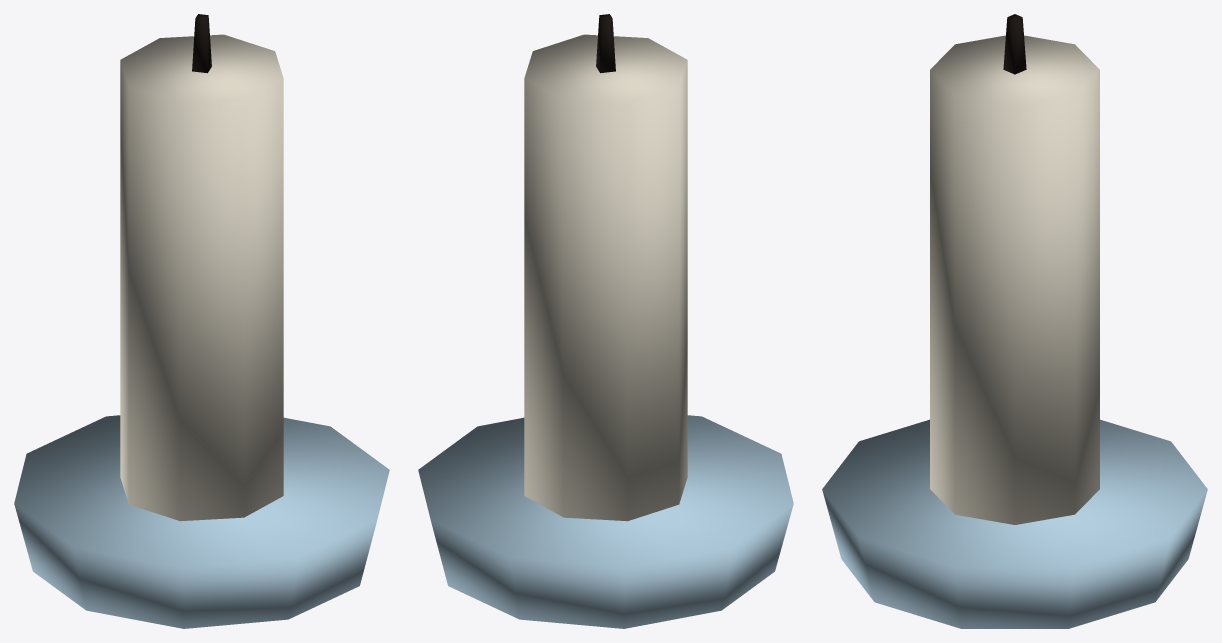
Rendered from glass_candle_v0.glb.
3 views of the same model, side by side, from view 1: azimuth 30°, elevation 25°; view 2: azimuth 150°, elevation 25°; view 3: azimuth 270°, elevation 25° (orthographic).
Parts seen in each view (by area): view 1: glass_candle_v0; view 2: glass_candle_v0; view 3: glass_candle_v0.
Part boxes in pixels (x1,y1,x2,y2): glass_candle_v0: (14, 14, 389, 628); glass_candle_v0: (418, 14, 793, 628); glass_candle_v0: (822, 14, 1207, 628).
Size of the model in its own units: 0.0951 by 0.155 by 0.1.
